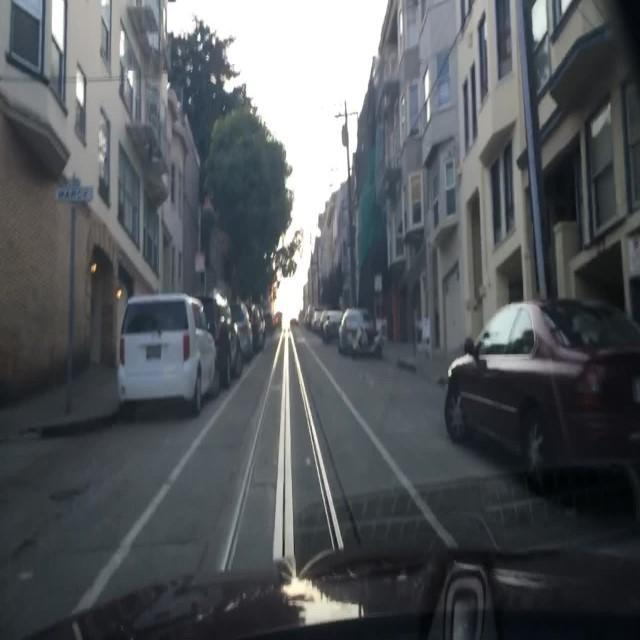normal: (425, 273, 640, 497), (117, 296, 220, 424), (321, 309, 342, 343)
